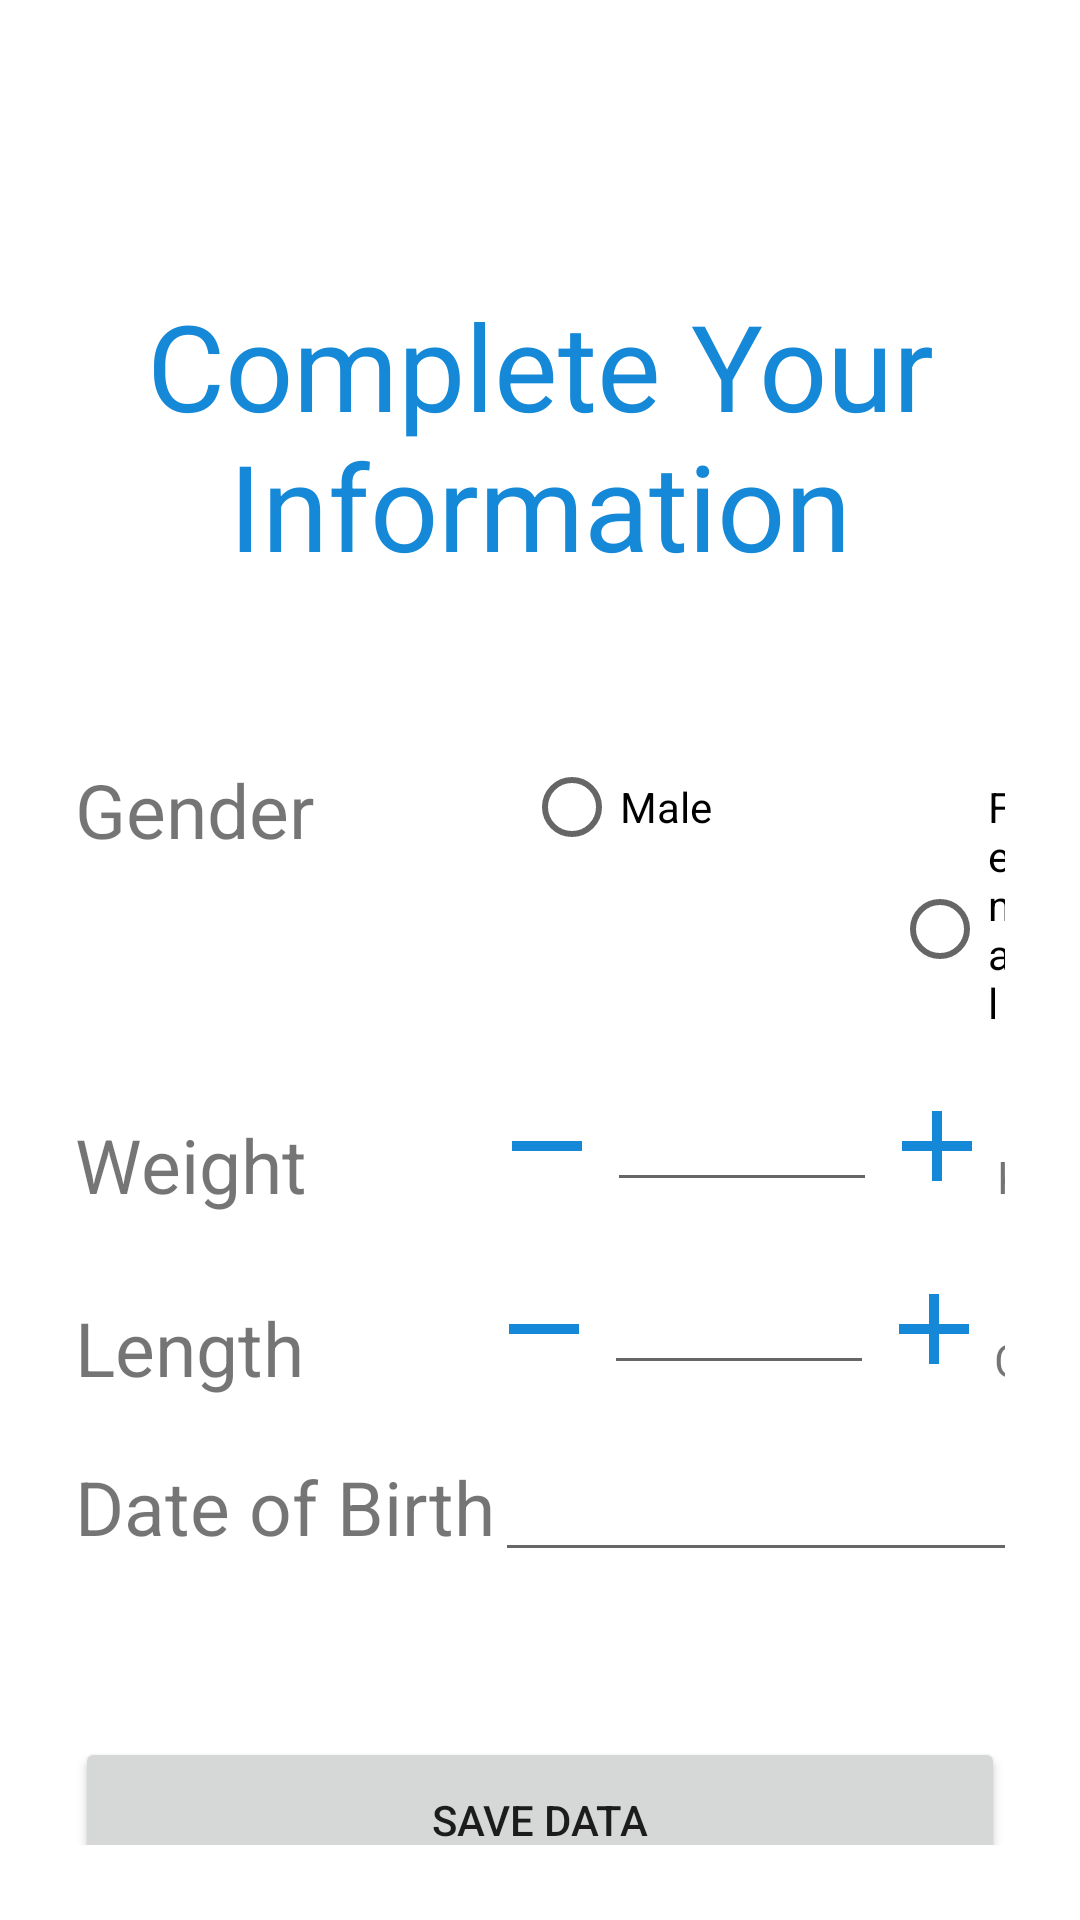

Locate icon controls on the screen. Image size 1080w x 1920h, boxes as bbox(x1, y1, x2, y2).
add: bbox(902, 1111, 972, 1181), bbox(899, 1294, 969, 1364)
